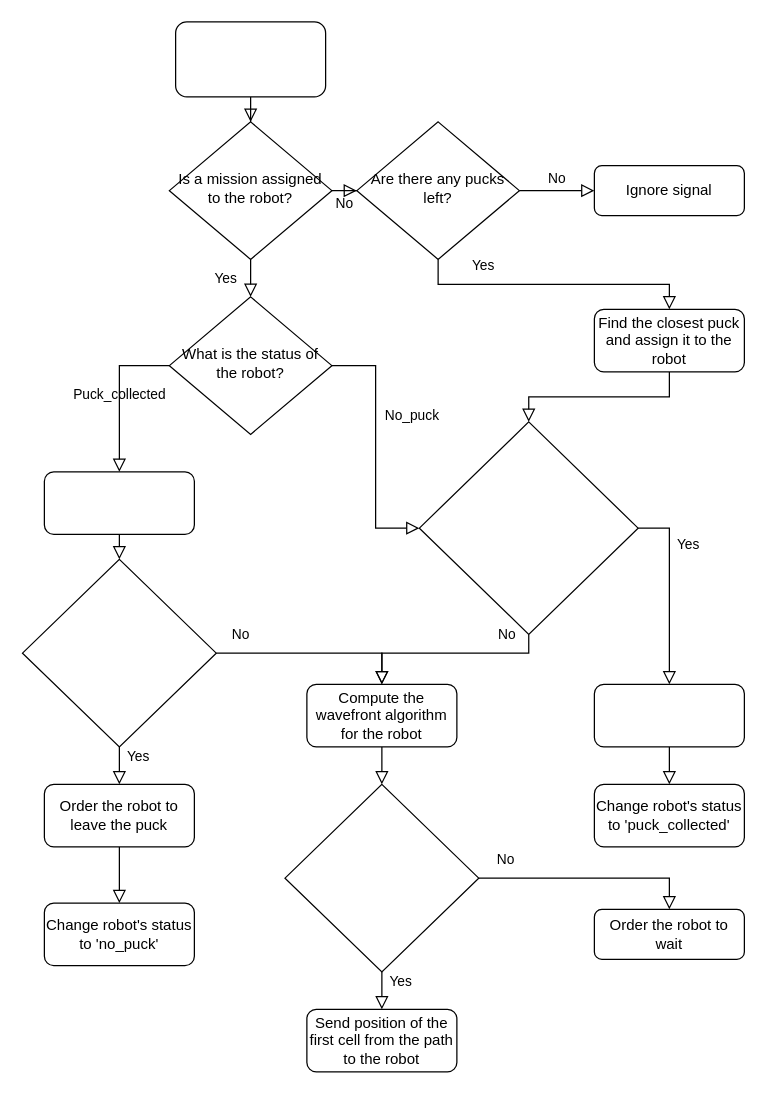
The diagram is 766 pixels wide and 1094 high, and some of its shapes have lost their labels. Here are the shapes that lost their labels. From the top down, the centre of each, then its label:
pixel 250 59: "Mission finished" signal recieved from the robot
pixel 118 502: Set destination to the red base
pixel 528 527: Is the position of the robot equal to the position of the assigned puck?
pixel 118 652: Is the position of the robot equal to the base position?
pixel 668 715: Order the robot to collect the puck
pixel 381 877: Does the path connecting robot position with destination exist?
